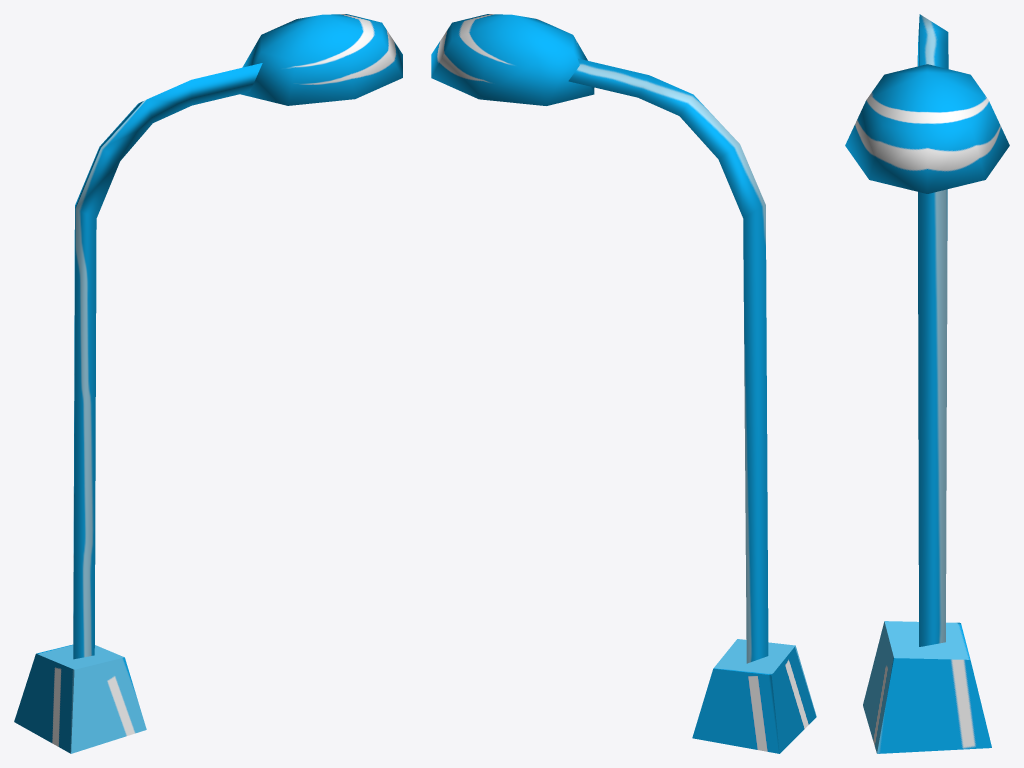
File: StreetPost.fbx
3 views of the same model, side by side, from view 1: azimuth 30°, elevation 25°; view 2: azimuth 150°, elevation 25°; view 3: azimuth 270°, elevation 25° (orthographic). The views are drawn at different scales.
Parts seen in each view (by area): view 1: TODOS:PosteCalle_2:polySurface2; view 2: TODOS:PosteCalle_2:polySurface2; view 3: TODOS:PosteCalle_2:polySurface2.
Part boxes in pixels (left/top/right/bottom): TODOS:PosteCalle_2:polySurface2: left=14, top=14, right=402, bottom=753; TODOS:PosteCalle_2:polySurface2: left=431, top=14, right=816, bottom=753; TODOS:PosteCalle_2:polySurface2: left=845, top=14, right=1009, bottom=753.
Bounding box in the file's own units: 10.88 × 18.42 × 3.45.
